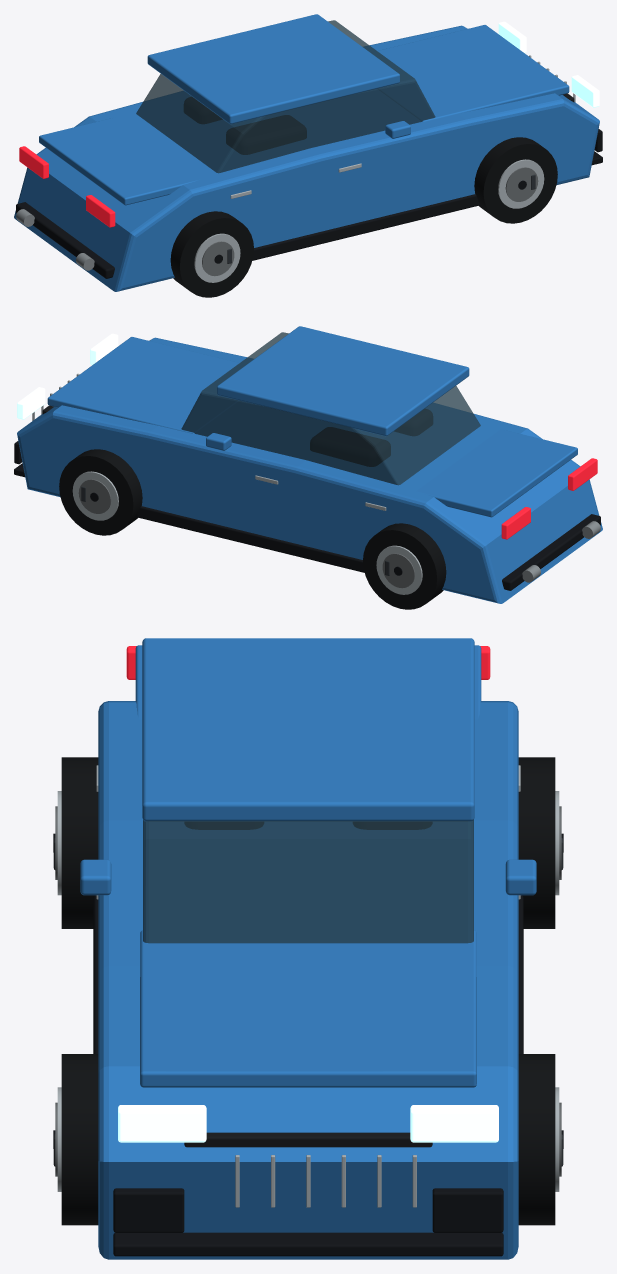
File: ford_focus.glb
3 renders of one model, top to bottom at view 1: azimuth 30°, elevation 25°; view 2: azimuth 150°, elevation 25°; view 3: azimuth 270°, elevation 25°, orthographic. The views are drawn at different scales.
Parts seen in each view (by area): view 1: sculpted_body, roof, glasshouse, hood_center, rear_deck, rear_right_wheel_tire, front_right_wheel_tire, side_skirt_1, seat_1, rear_diffuser, front_right_wheel_rim, rear_right_wheel_rim (+7 smaller); view 2: sculpted_body, roof, glasshouse, hood_center, rear_deck, rear_left_wheel_tire, front_left_wheel_tire, side_skirt_-1, seat_-1, rear_diffuser, front_left_wheel_rim, rear_left_wheel_rim (+7 smaller); view 3: sculpted_body, roof, hood_center, glasshouse, front_splitter, front_left_wheel_tire, front_right_wheel_tire, rear_left_wheel_tire, rear_right_wheel_tire, front_grille, headlight_left, headlight_right (+7 smaller).
Part boxes in pixels (x1,y1,x2,y2): sculpted_body: [14, 25, 599, 291]; roof: [147, 14, 399, 124]; glasshouse: [136, 20, 435, 173]; hood_center: [372, 25, 569, 121]; rear_deck: [39, 117, 200, 205]; rear_right_wheel_tire: [170, 211, 253, 297]; front_right_wheel_tire: [474, 137, 557, 223]; side_skirt_1: [252, 194, 480, 260]; seat_1: [226, 115, 306, 154]; rear_diffuser: [16, 202, 114, 278]; front_right_wheel_rim: [498, 159, 544, 208]; rear_right_wheel_rim: [194, 233, 240, 282]; sculpted_body: [17, 337, 602, 603]; roof: [217, 326, 469, 436]; glasshouse: [181, 332, 480, 485]; hood_center: [47, 337, 244, 433]; rear_deck: [416, 429, 577, 517]; rear_left_wheel_tire: [363, 523, 446, 609]; front_left_wheel_tire: [59, 449, 142, 535]; side_skirt_-1: [136, 506, 364, 572]; seat_-1: [310, 427, 390, 466]; rear_diffuser: [502, 514, 600, 590]; front_left_wheel_rim: [72, 471, 118, 520]; rear_left_wheel_rim: [376, 545, 422, 594]; sculpted_body: [98, 701, 518, 1259]; roof: [142, 638, 474, 821]; hood_center: [140, 930, 476, 1087]; glasshouse: [143, 820, 473, 943]; front_splitter: [113, 1232, 503, 1256]; front_left_wheel_tire: [518, 1054, 555, 1225]; front_right_wheel_tire: [61, 1054, 98, 1225]; rear_left_wheel_tire: [518, 757, 555, 928]; rear_right_wheel_tire: [61, 757, 98, 928]; front_grille: [184, 1132, 432, 1147]; headlight_left: [410, 1105, 498, 1142]; headlight_right: [118, 1105, 206, 1142].
Size of the model in its own units: 4.92 by 1.47 by 2.14.
